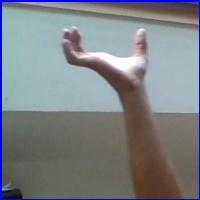B: (53, 19, 163, 85)
